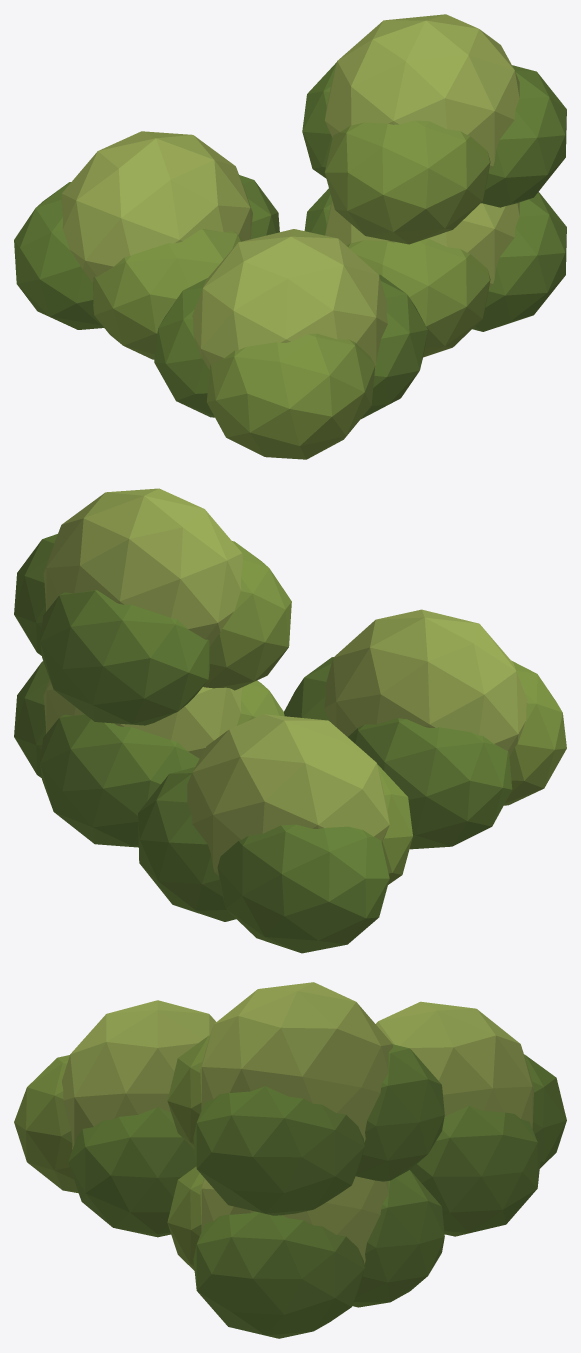
Rendered from pile-lettuce-4.gltf.
3 views of the same model, one above another, from view 1: azimuth 30°, elevation 25°; view 2: azimuth 150°, elevation 25°; view 3: azimuth 270°, elevation 25° (orthographic). The views are drawn at different scales.
Visible parts, largest first — view 1: pile-lettuce-4; view 2: pile-lettuce-4; view 3: pile-lettuce-4.
Part boxes in pixels (x1,y1,x2,y2): pile-lettuce-4: (14, 14, 566, 459); pile-lettuce-4: (14, 488, 566, 953); pile-lettuce-4: (14, 982, 566, 1338).
Size of the model in its own units: 0.5767 by 0.3879 by 0.6175.
